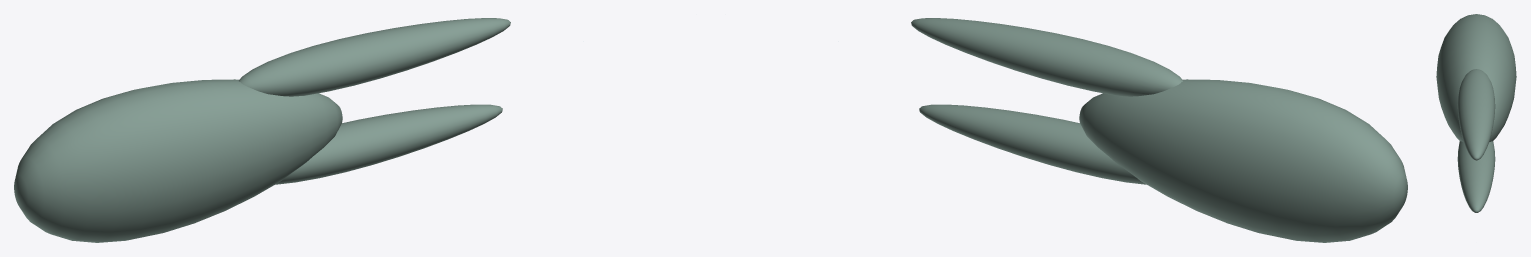
File: claw-mechanism-proxy.gltf
3 renders of one model, left to right at view 1: azimuth 30°, elevation 25°; view 2: azimuth 150°, elevation 25°; view 3: azimuth 270°, elevation 25°, orthographic. The views are drawn at different scales.
Parts seen in each view (by area): view 1: Fixed palm proxy, Moving dactyl proxy, Fixed finger proxy; view 2: Fixed palm proxy, Moving dactyl proxy, Fixed finger proxy; view 3: Fixed palm proxy, Moving dactyl proxy, Fixed finger proxy.
Part boxes in pixels (x1=…): Fixed palm proxy: x1=14, y1=79, x2=342, y2=242; Moving dactyl proxy: x1=239, y1=18, x2=510, y2=96; Fixed finger proxy: x1=275, y1=104, x2=502, y2=184; Fixed palm proxy: x1=1079, y1=79, x2=1407, y2=242; Moving dactyl proxy: x1=911, y1=18, x2=1182, y2=96; Fixed finger proxy: x1=919, y1=104, x2=1146, y2=184; Fixed palm proxy: x1=1436, y1=14, x2=1516, y2=141; Moving dactyl proxy: x1=1457, y1=69, x2=1495, y2=160; Fixed finger proxy: x1=1457, y1=141, x2=1495, y2=212.
Size of the model in its own units: 4.2 by 0.8349 by 0.6583.
